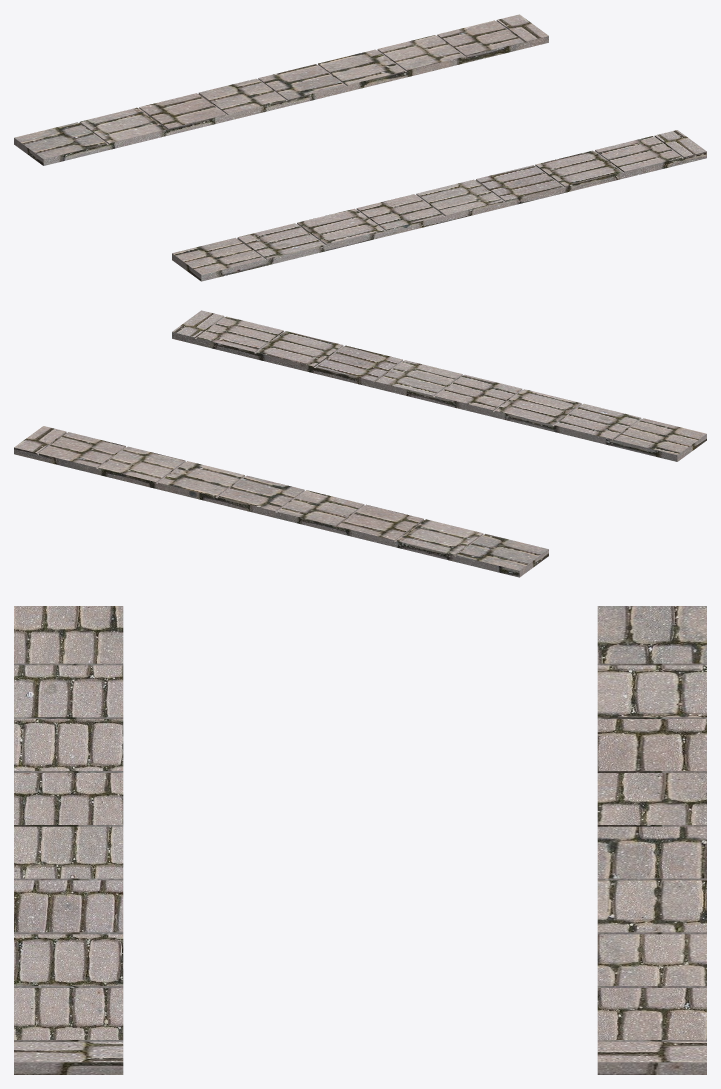
File: rettilineo_bordo.obj
The picture shows the model from 3 angles, top to bottom: view 1: azimuth 30°, elevation 25°; view 2: azimuth 150°, elevation 25°; view 3: azimuth 270°, elevation 25°; orthographic projection. The views are drawn at different scales.
Parts seen in each view (by area): view 1: Объект_Куб.1-Ноль_объект_1.001, Объект_Куб.1-Ноль_объект.001; view 2: Объект_Куб.1-Ноль_объект.001, Объект_Куб.1-Ноль_объект_1.001; view 3: Объект_Куб.1-Ноль_объект.001, Объект_Куб.1-Ноль_объект_1.001.
Boxes of the visible parts, left/top/right/bottom form: Объект_Куб.1-Ноль_объект_1.001: left=14, top=14, right=548, bottom=165; Объект_Куб.1-Ноль_объект.001: left=172, top=130, right=706, bottom=281; Объект_Куб.1-Ноль_объект.001: left=172, top=310, right=706, bottom=461; Объект_Куб.1-Ноль_объект_1.001: left=14, top=426, right=548, bottom=577; Объект_Куб.1-Ноль_объект.001: left=14, top=606, right=123, bottom=1074; Объект_Куб.1-Ноль_объект_1.001: left=597, top=606, right=706, bottom=1074.
Bounding box in the file's own units: 659 × 8.43 × 423.
